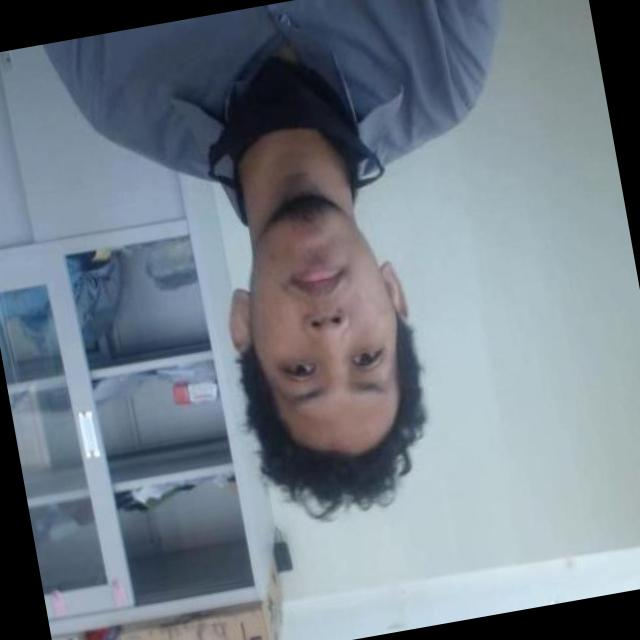bareface: (228, 198, 432, 510)
